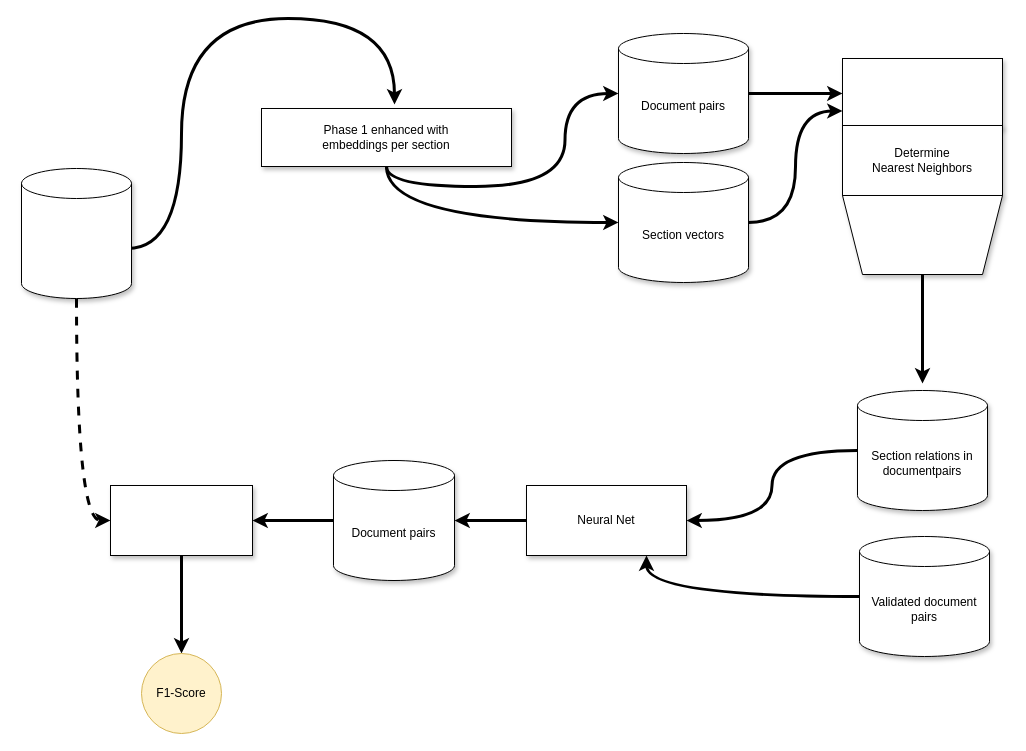
Some shapes in this 1026 by 751 pixel diagram are drawn without their labels. The shapes that lost their labels are listed below. From the top down, each one's centre as x and y in pixels, then its label:
At point (923, 95): "Create section pars".
At point (77, 235): "Corpus".
At point (923, 236): "Filter K-Nearest Neighbors".
At point (182, 521): "Evaluate".
